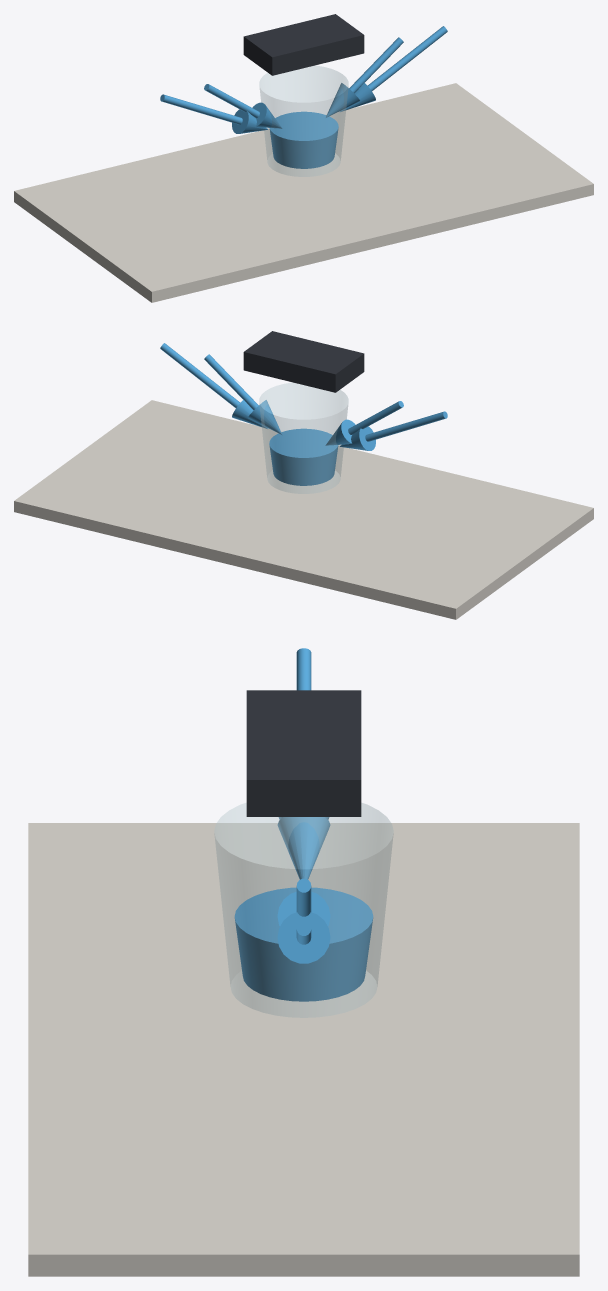
Rendered from chem-reaction-endothermic.glb.
The picture shows the model from 3 angles, top to bottom: view 1: azimuth 30°, elevation 25°; view 2: azimuth 150°, elevation 25°; view 3: azimuth 270°, elevation 25°; orthographic projection. The views are drawn at different scales.
Visible parts, largest first — view 1: reaction-base, glass-wall, temperature-drop-card, liquid-fill, heat-in-arrow-4-shaft, heat-in-arrow-1-shaft, heat-in-arrow-3-shaft, heat-in-arrow-3-head, heat-in-arrow-1-head, heat-in-arrow-2-shaft, heat-in-arrow-2-head; view 2: reaction-base, glass-wall, temperature-drop-card, liquid-fill, heat-in-arrow-4-shaft, heat-in-arrow-1-shaft, heat-in-arrow-3-shaft, heat-in-arrow-3-head, heat-in-arrow-1-head, heat-in-arrow-2-shaft, heat-in-arrow-2-head; view 3: reaction-base, glass-wall, temperature-drop-card, liquid-fill, heat-in-arrow-2-head, heat-in-arrow-4-head, heat-in-arrow-3-head.
Part boxes in pixels (bbox=[...]): reaction-base: bbox=[14, 83, 593, 302]; glass-wall: bbox=[259, 65, 348, 176]; temperature-drop-card: bbox=[243, 14, 364, 75]; liquid-fill: bbox=[269, 111, 338, 168]; heat-in-arrow-4-shaft: bbox=[367, 26, 447, 90]; heat-in-arrow-1-shaft: bbox=[160, 94, 242, 124]; heat-in-arrow-3-shaft: bbox=[349, 37, 403, 93]; heat-in-arrow-3-head: bbox=[325, 83, 359, 117]; heat-in-arrow-1-head: bbox=[232, 109, 267, 133]; heat-in-arrow-2-shaft: bbox=[204, 84, 259, 117]; heat-in-arrow-2-head: bbox=[252, 102, 282, 128]; reaction-base: bbox=[14, 400, 593, 619]; glass-wall: bbox=[259, 382, 348, 493]; temperature-drop-card: bbox=[243, 331, 364, 392]; liquid-fill: bbox=[269, 428, 338, 485]; heat-in-arrow-4-shaft: bbox=[160, 343, 240, 407]; heat-in-arrow-1-shaft: bbox=[365, 411, 447, 441]; heat-in-arrow-3-shaft: bbox=[204, 354, 258, 410]; heat-in-arrow-3-head: bbox=[248, 400, 282, 434]; heat-in-arrow-1-head: bbox=[340, 426, 375, 450]; heat-in-arrow-2-shaft: bbox=[348, 401, 403, 434]; heat-in-arrow-2-head: bbox=[325, 419, 355, 445]; reaction-base: bbox=[28, 823, 579, 1276]; glass-wall: bbox=[214, 803, 393, 1017]; temperature-drop-card: bbox=[246, 690, 361, 816]; liquid-fill: bbox=[234, 887, 373, 1001]; heat-in-arrow-2-head: bbox=[277, 817, 330, 879]; heat-in-arrow-4-head: bbox=[277, 912, 330, 963]; heat-in-arrow-3-head: bbox=[277, 891, 330, 925].
Size of what is drawn, in the model's own units: 2.5 by 0.88 by 1.35.
